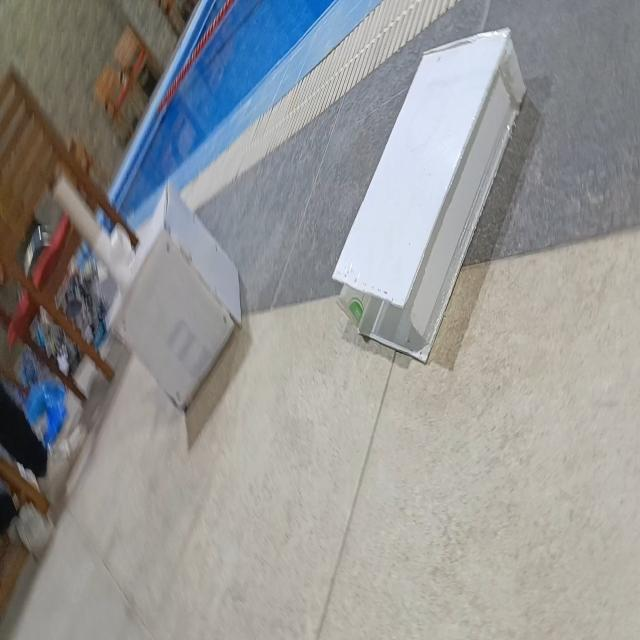Cube: (112, 180, 242, 414)
Cuboid: (331, 24, 527, 364)
